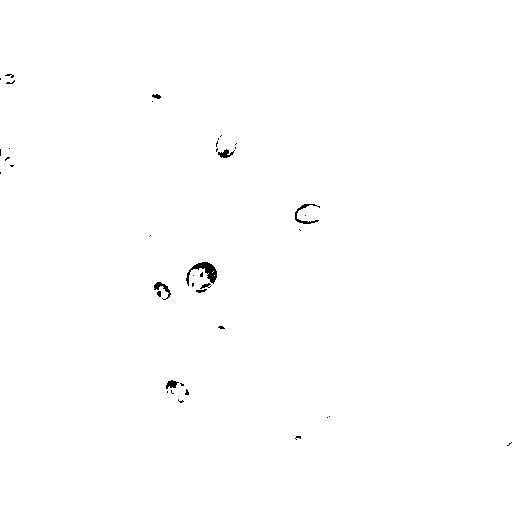micro-algae: (140, 217, 176, 256), (276, 421, 314, 455), (186, 261, 218, 294), (214, 130, 239, 159), (293, 200, 324, 223), (164, 377, 189, 405), (283, 227, 308, 251), (0, 150, 23, 174), (153, 280, 173, 301), (0, 71, 17, 85), (187, 163, 197, 179), (501, 439, 511, 455)
